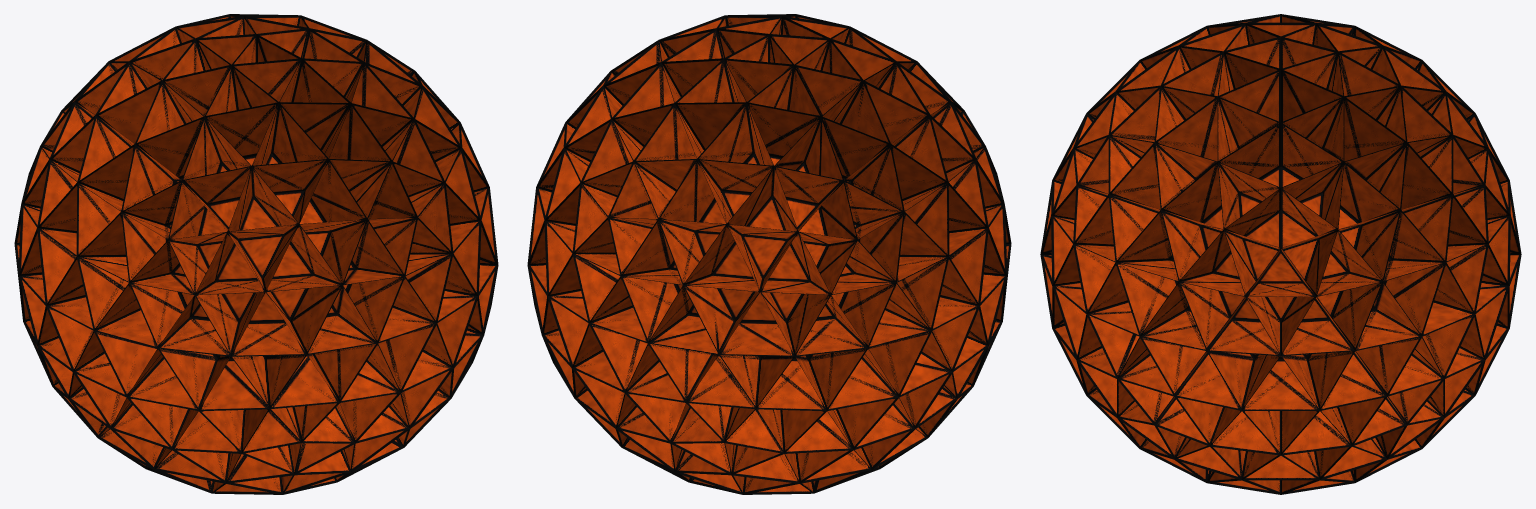
3 renders of one model, left to right at view 1: azimuth 30°, elevation 25°; view 2: azimuth 150°, elevation 25°; view 3: azimuth 270°, elevation 25°, orthographic.
Visible parts, largest first — view 1: ico-layer2-col.143, ico-layer2-col.205, ico-layer2-col.067, ico-layer2-col.200, ico-layer2-col.079, ico-layer2-col.058, ico-layer2-col.216, ico-layer2-col.072, ico-layer2-col.070, ico-layer2-col.147, ico-layer2-col.137, ico-layer2-col.215 (+127 smaller); view 2: ico-layer2-col.044, ico-layer2-col.113, ico-layer2-col.112, ico-layer2-col.189, ico-layer2-col.042, ico-layer2-col.127, ico-layer2-col.190, ico-layer2-col.047, ico-layer2-col.185, ico-layer2-col.195, ico-layer2-col.057, ico-layer2-col.060 (+133 smaller); view 3: ico-layer2-col.235, ico-layer2-col.165, ico-layer2-col, ico-layer2-col.101, ico-layer2-col.086, ico-layer2-col.161, ico-layer2-col.231, ico-layer2-col.022, ico-layer2-col.027, ico-layer2-col.230, ico-layer2-col.023, ico-layer2-col.237 (+133 smaller).
Part boxes in pixels (x1,y1,x2,y2): ico-layer2-col.143: (231, 321, 306, 408); ico-layer2-col.205: (127, 348, 217, 411); ico-layer2-col.067: (205, 65, 278, 157); ico-layer2-col.200: (94, 283, 185, 348); ico-layer2-col.079: (311, 159, 392, 221); ico-layer2-col.058: (135, 81, 204, 178); ico-layer2-col.216: (313, 343, 400, 402); ico-layer2-col.072: (252, 102, 328, 193); ico-layer2-col.070: (279, 59, 351, 149); ico-layer2-col.147: (266, 275, 342, 354); ico-layer2-col.137: (46, 257, 128, 330); ico-layer2-col.215: (348, 276, 436, 343); ico-layer2-col.044: (774, 116, 843, 204); ico-layer2-col.113: (648, 314, 718, 402); ico-layer2-col.112: (620, 269, 693, 343); ico-layer2-col.189: (796, 317, 867, 410); ico-layer2-col.042: (697, 103, 773, 193); ico-layer2-col.127: (886, 256, 949, 330); ico-layer2-col.190: (808, 348, 898, 411); ico-layer2-col.047: (697, 159, 774, 226); ico-layer2-col.185: (787, 294, 867, 356); ico-layer2-col.195: (827, 358, 898, 449); ico-layer2-col.057: (840, 80, 929, 145); ico-layer2-col.060: (844, 144, 904, 225); ico-layer2-col.235: (1242, 354, 1319, 410); ico-layer2-col.165: (1140, 282, 1230, 350); ico-layer2-col: (1115, 259, 1188, 336); ico-layer2-col.101: (1332, 282, 1421, 350); ico-layer2-col.086: (1155, 86, 1217, 161); ico-layer2-col.161: (1116, 210, 1206, 281); ico-layer2-col.231: (1174, 351, 1254, 410); ico-layer2-col.022: (1281, 69, 1343, 148); ico-layer2-col.027: (1323, 96, 1406, 179); ico-layer2-col.230: (1207, 297, 1280, 355); ico-layer2-col.023: (1281, 122, 1343, 201); ico-layer2-col.237: (1307, 351, 1387, 410).
Size of the model in its own units: 47.75 by 47.75 by 47.75.
1 material, 1 textured.
